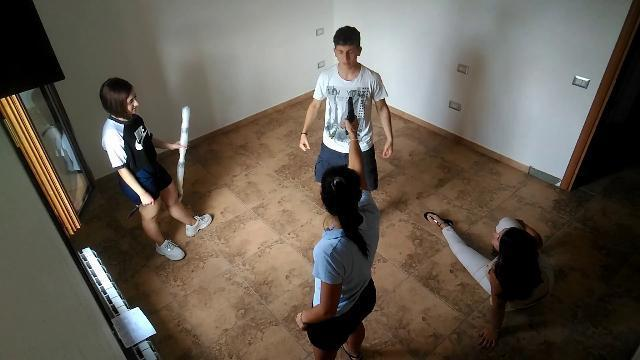non-violence: (96, 76, 216, 268), (425, 202, 553, 350)
violence: (299, 26, 393, 360)
weapon: (344, 98, 354, 131)
